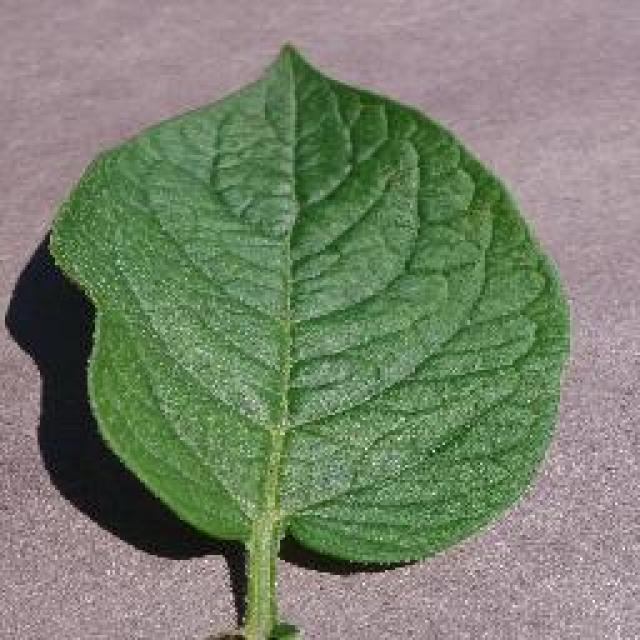healthy: (43, 37, 575, 575)
